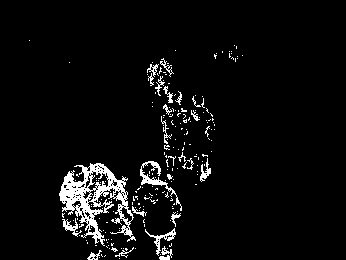person: (137, 159, 184, 259), (65, 158, 102, 254), (97, 171, 134, 260), (186, 94, 215, 183), (162, 89, 189, 179)
